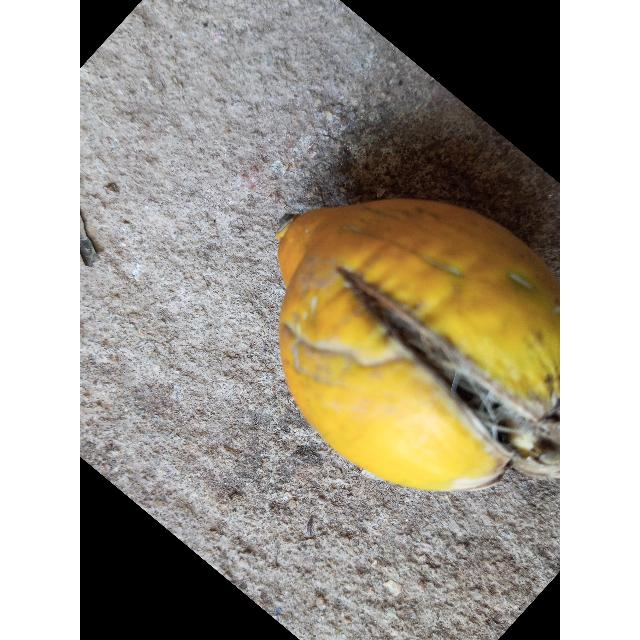damaged: (277, 199, 560, 495)
